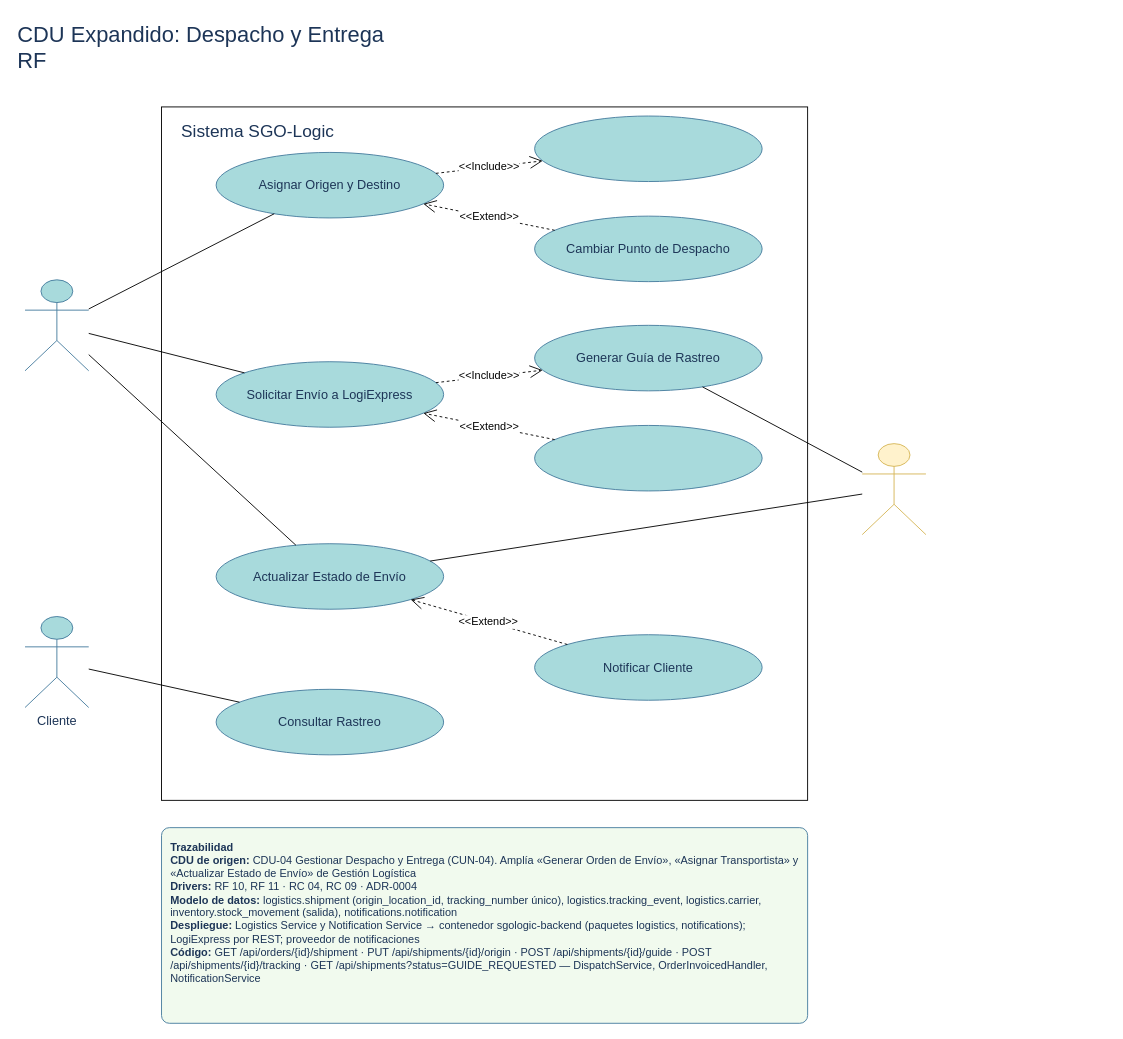
Some shapes in this 1123 by 1039 pixel diagram are drawn without their labels. Each missing label, with the box of its shape:
Consultar Inventario Centralizado: (534, 115, 762, 182)
Levantar Alerta Operativa: (534, 425, 762, 491)
LogiExpress: (861, 443, 926, 535)
Logística: (24, 279, 89, 371)
